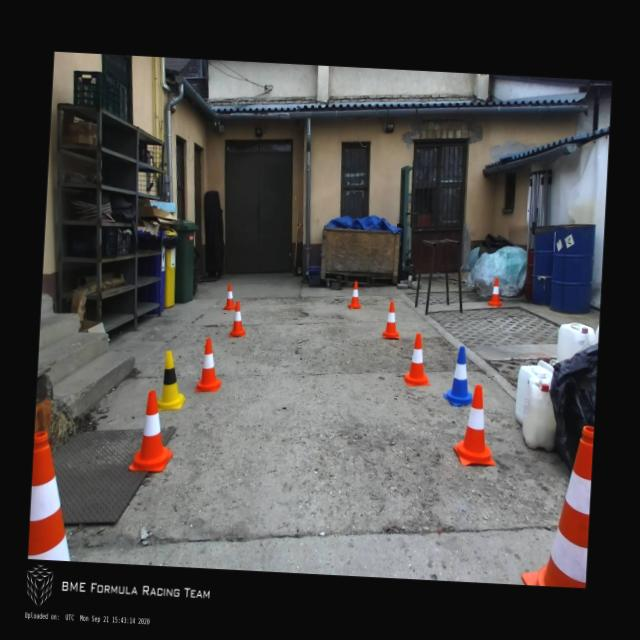blue_cone: (442, 346, 476, 408)
large_orange_cone: (521, 422, 594, 588), (28, 431, 78, 562)
orange_cone: (128, 390, 176, 472), (452, 384, 498, 466), (194, 338, 224, 394), (403, 333, 433, 387), (382, 300, 400, 338), (230, 301, 247, 338), (487, 278, 505, 307), (348, 281, 362, 310), (224, 283, 236, 310)
yellow_cone: (157, 350, 188, 410)
